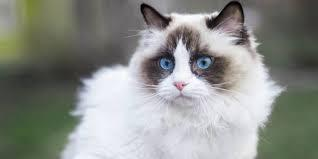ragdoll: (129, 1, 252, 120)
